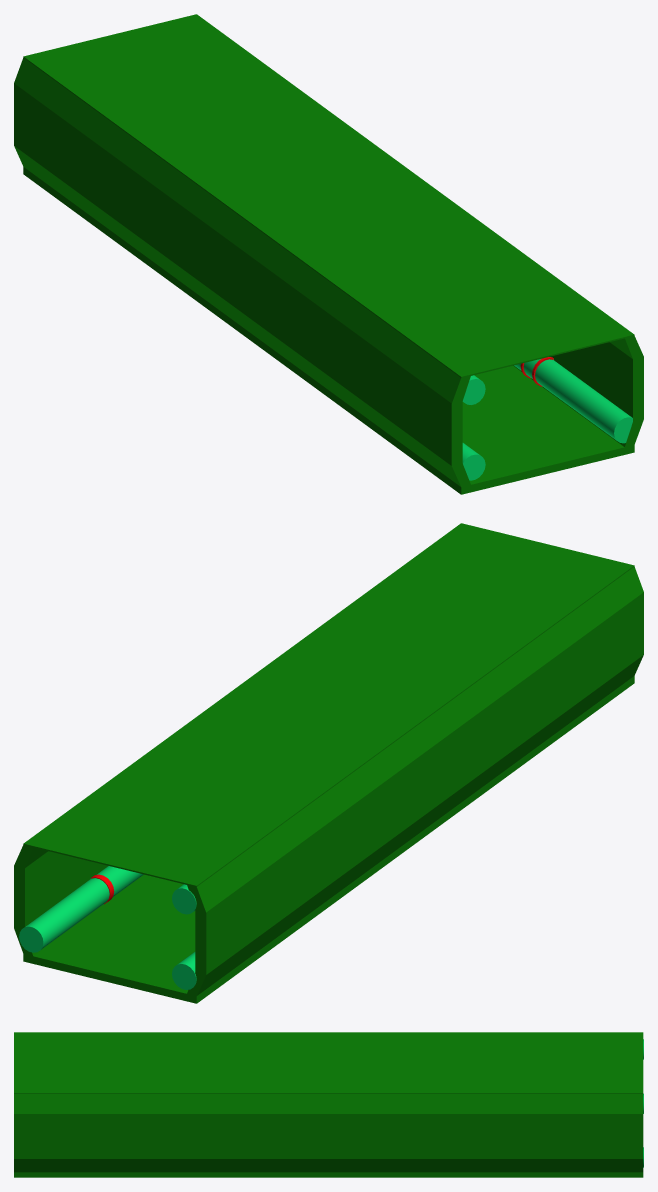
The model's file is Couloir droit 2.fbx.
3 renders of one model, top to bottom at view 1: azimuth 30°, elevation 25°; view 2: azimuth 150°, elevation 25°; view 3: azimuth 270°, elevation 25°, orthographic. The views are drawn at different scales.
Visible parts, largest first — view 1: Object004; view 2: Object004; view 3: Object004.
Part boxes in pixels (x1,y1,x2,y2): Object004: (14,14,643,494); Object004: (14,523,643,1003); Object004: (14,1032,643,1177).
Bounding box in the file's own units: 2841 × 1666 × 11221.
